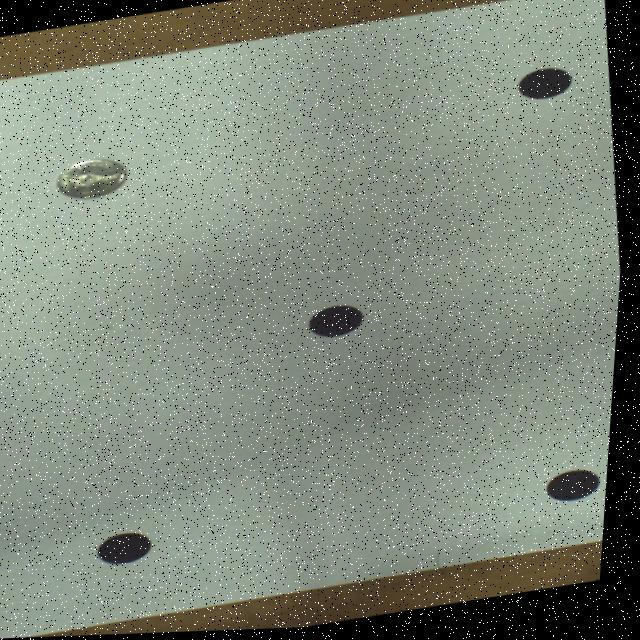space: (314, 308, 367, 340), (552, 474, 605, 506), (105, 534, 158, 565), (519, 72, 572, 103)
tail1bath: (59, 160, 128, 199)
